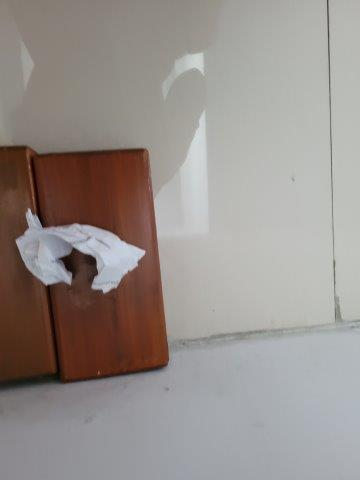kertas: (14, 208, 149, 291)
